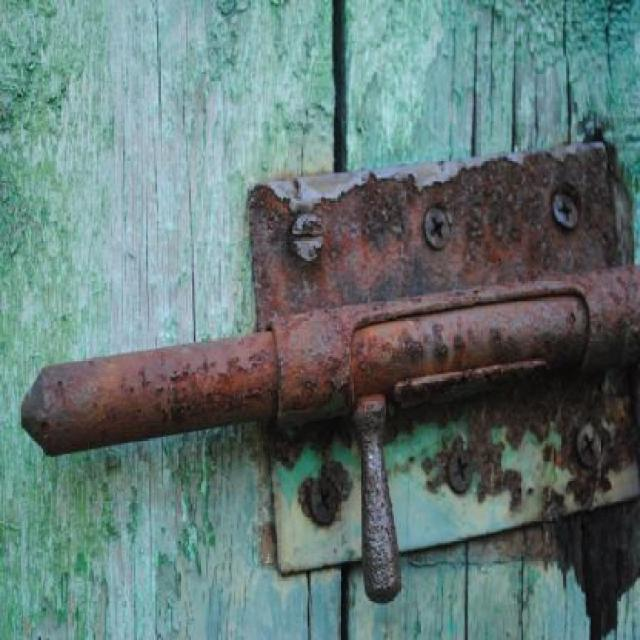corrosion: (26, 145, 636, 573)
